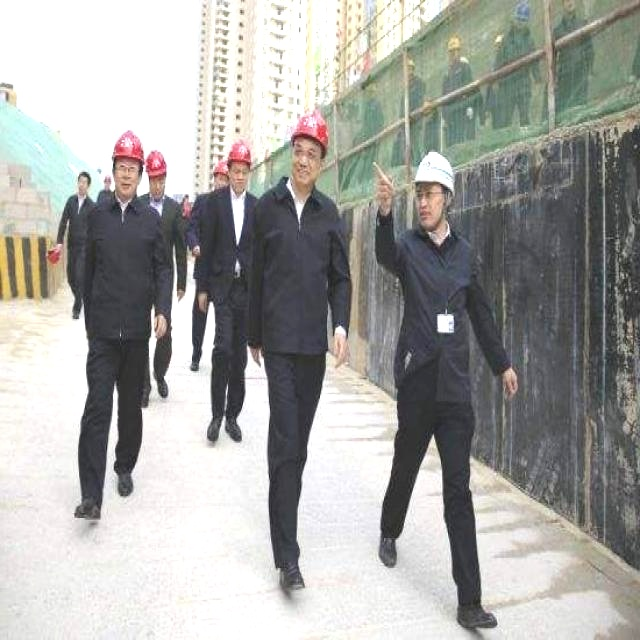Con_Casco: (411, 150, 454, 226), (289, 107, 330, 181)
